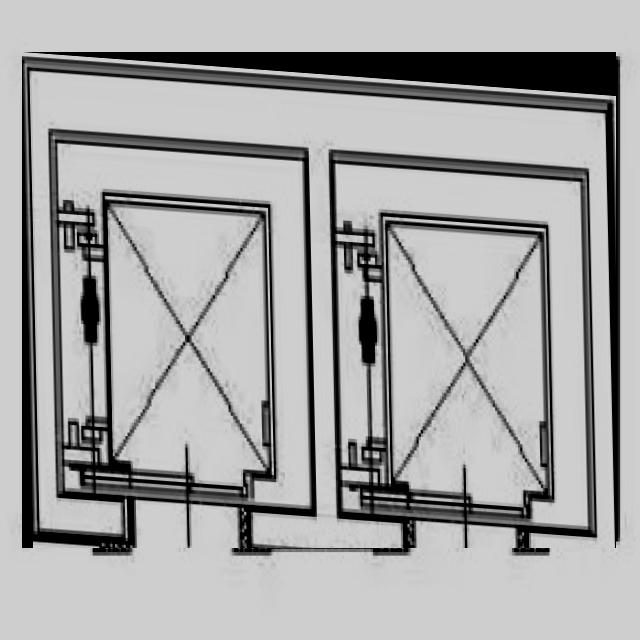lift: (22, 52, 616, 548)
